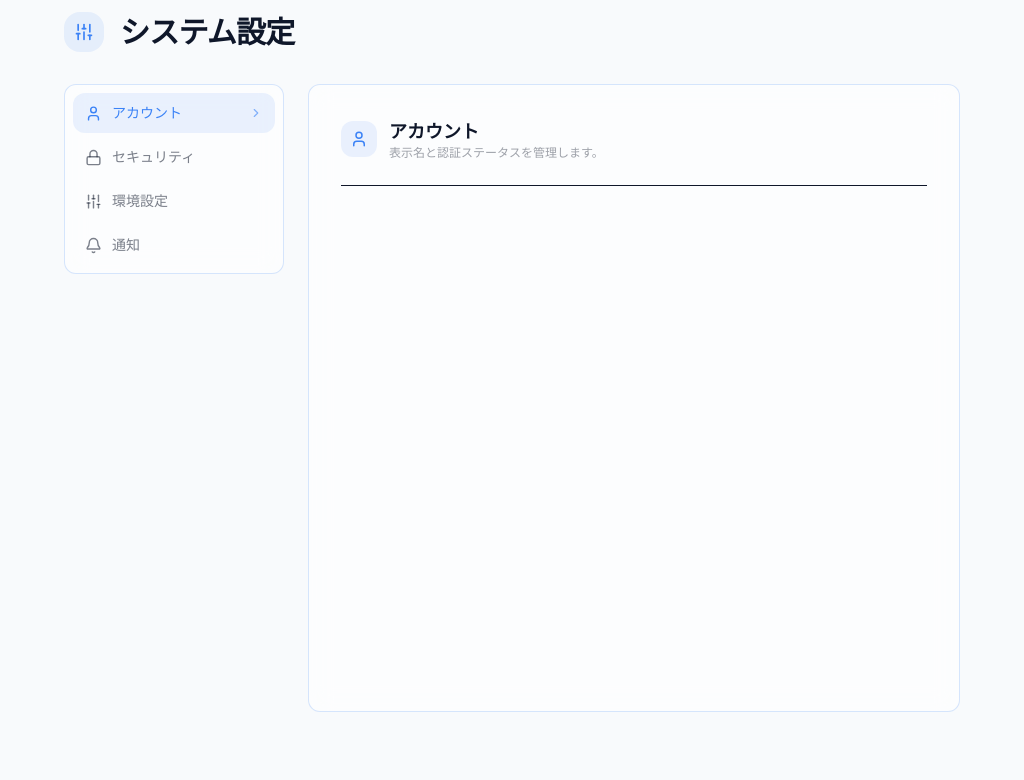
Test: Locale end-to-end integration › loads saved locale from settings API and reflects it in the locale selector
The image size is (1024, 780).
Expected: the heading "システム設定" is shown, [120,14,295,50]
Step 1. Click the button "環境設定" → (174, 201), box [73,181,275,221]
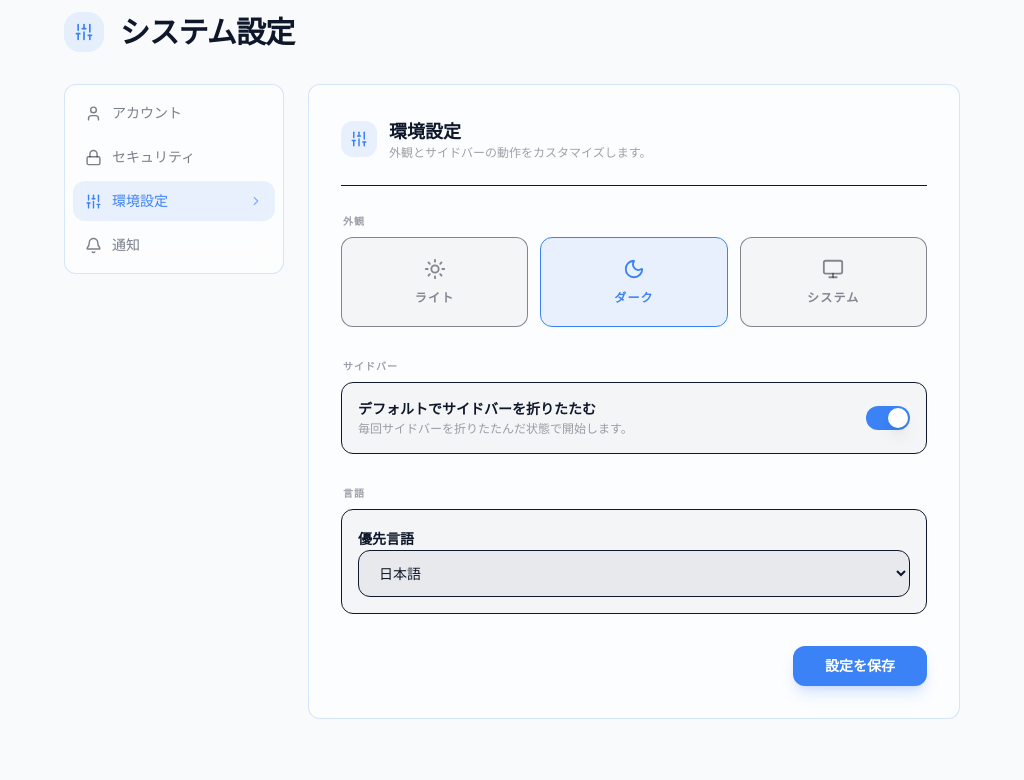
Expected: the text "外観" is shown, [343,214,365,228]
Expected: the dropdown labelled "優先言語" shows "日本語", [358,550,910,597]
